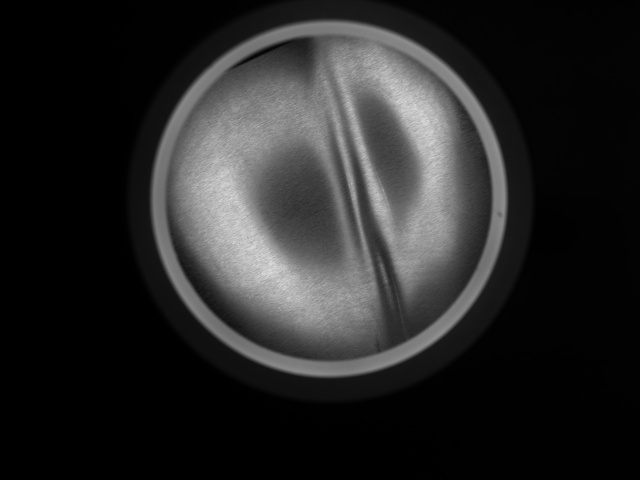zhe_zhou: (205, 71, 459, 324)
